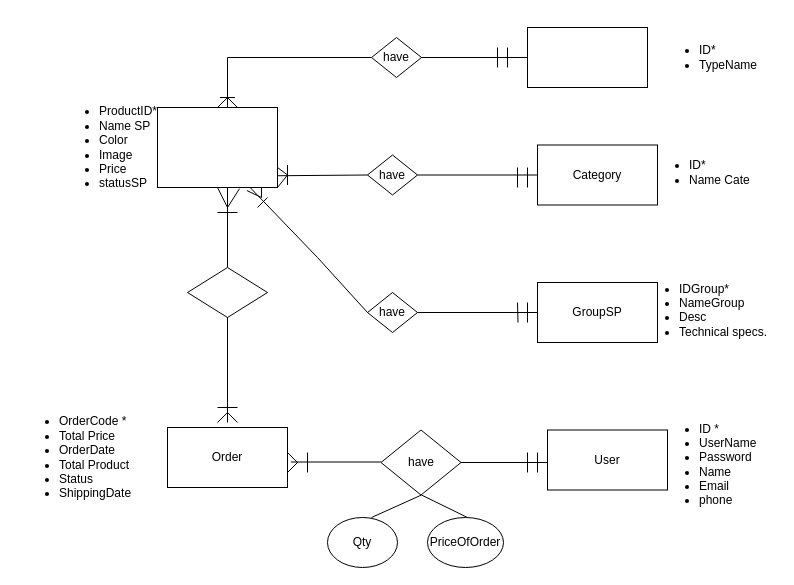
Image size: 794x585. Some labels were removed from this diagram. Each missing label, with the centre of its shape:
Of: the point at 227,292
Product: the point at 217,147
Type: the point at 587,57
